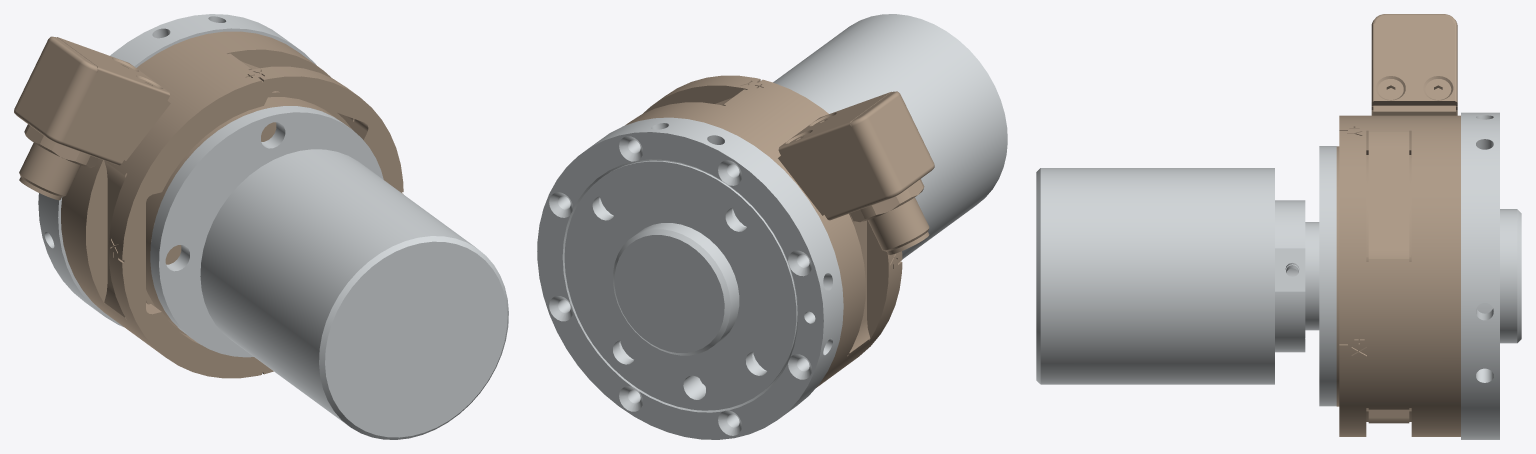
Rendered from assy_FT_peg_mount_save.obj.
3 views of the same model, side by side, from view 1: azimuth 30°, elevation 25°; view 2: azimuth 150°, elevation 25°; view 3: azimuth 270°, elevation 25° (orthographic).
Parts seen in each view (by area): view 1: mesh 1 03_Plug_Cylinder-1, mesh 2 02_Mount_Plug_FT-1; view 2: mesh 1 03_Plug_Cylinder-1, mesh 2 02_Mount_Plug_FT-1; view 3: mesh 1 03_Plug_Cylinder-1, mesh 2 02_Mount_Plug_FT-1.
Part boxes in pixels (x1,y1,x2,y2): mesh 1 03_Plug_Cylinder-1: (38,14,508,439); mesh 2 02_Mount_Plug_FT-1: (14,31,403,378); mesh 1 03_Plug_Cylinder-1: (537,14,1007,439); mesh 2 02_Mount_Plug_FT-1: (625,75,934,387); mesh 1 03_Plug_Cylinder-1: (1036,112,1521,439); mesh 2 02_Mount_Plug_FT-1: (1336,14,1460,436).
Bounding box in the file's own units: 0.0909 × 0.085 × 0.1118.
